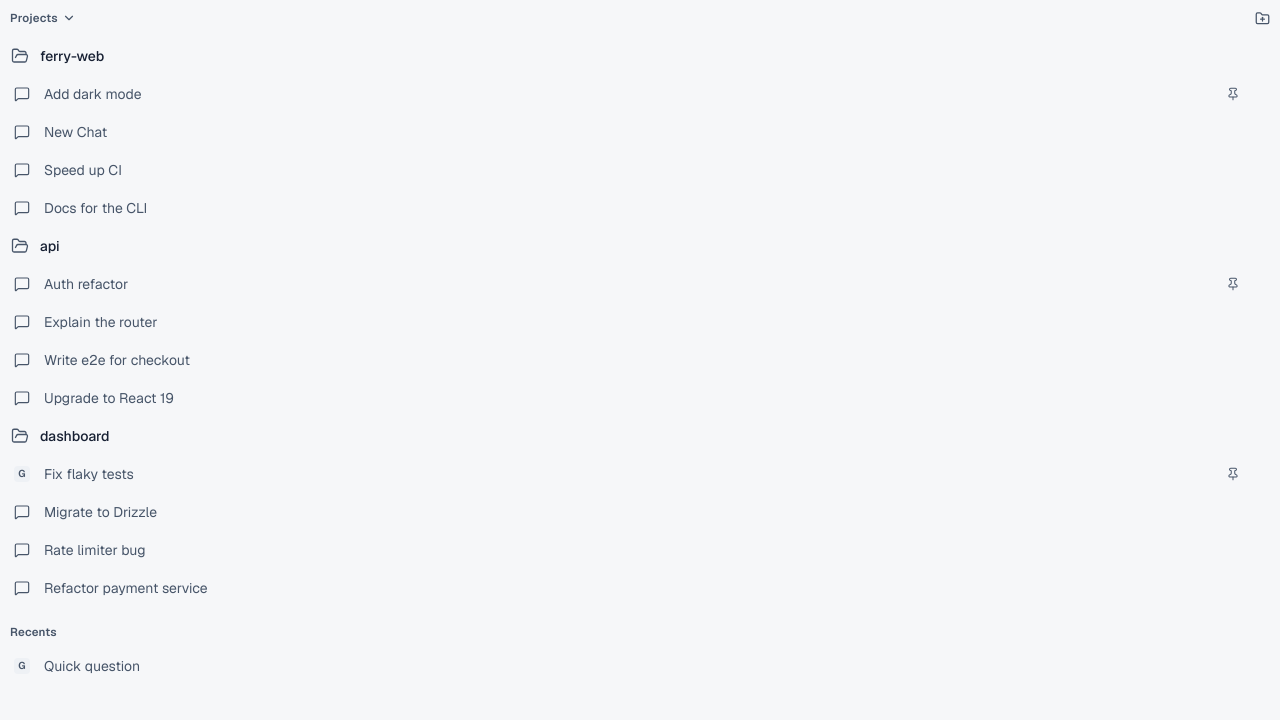
it: SidebarProjects › opens model contributions without navigating or changing the selected conversation
Click the button named "Model usage for Quick question". click: (22, 666)
box: [8,652,36,680]
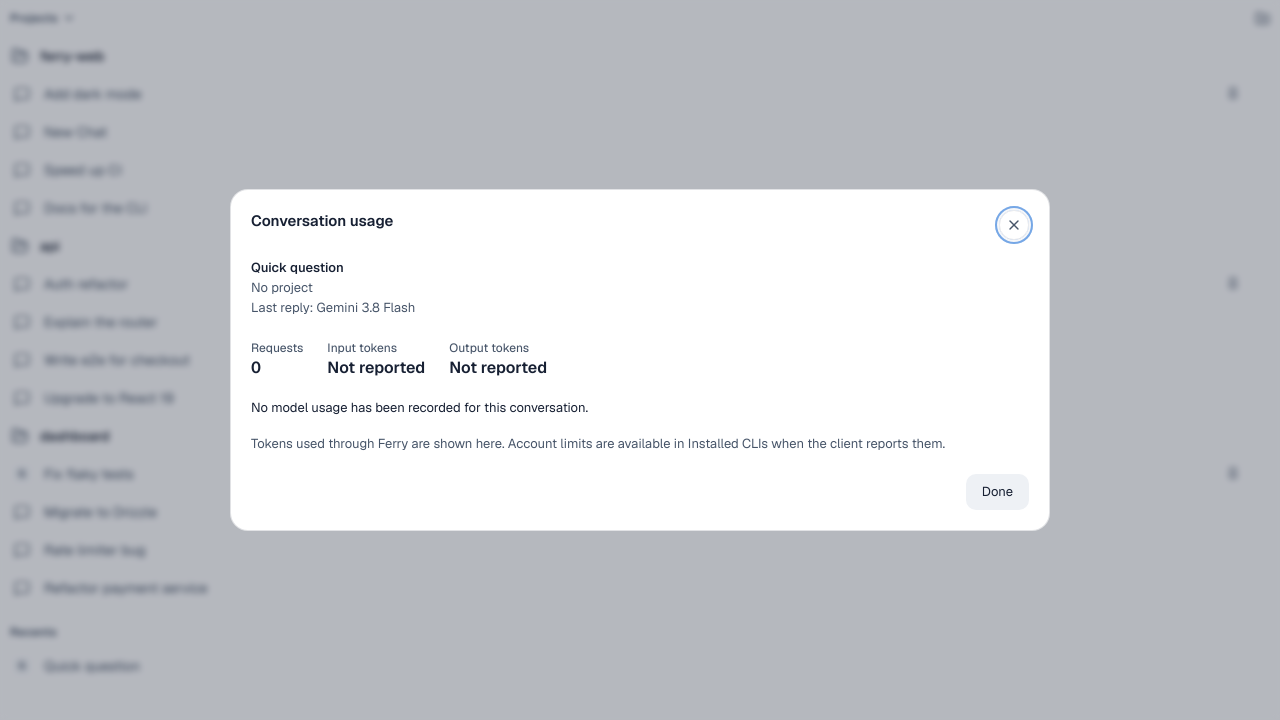
Expected: the dialog "Conversation usage" shows "Quick question", [251,259,344,276]
Expected: the dialog "Conversation usage" shows "No project", [251,279,313,296]
